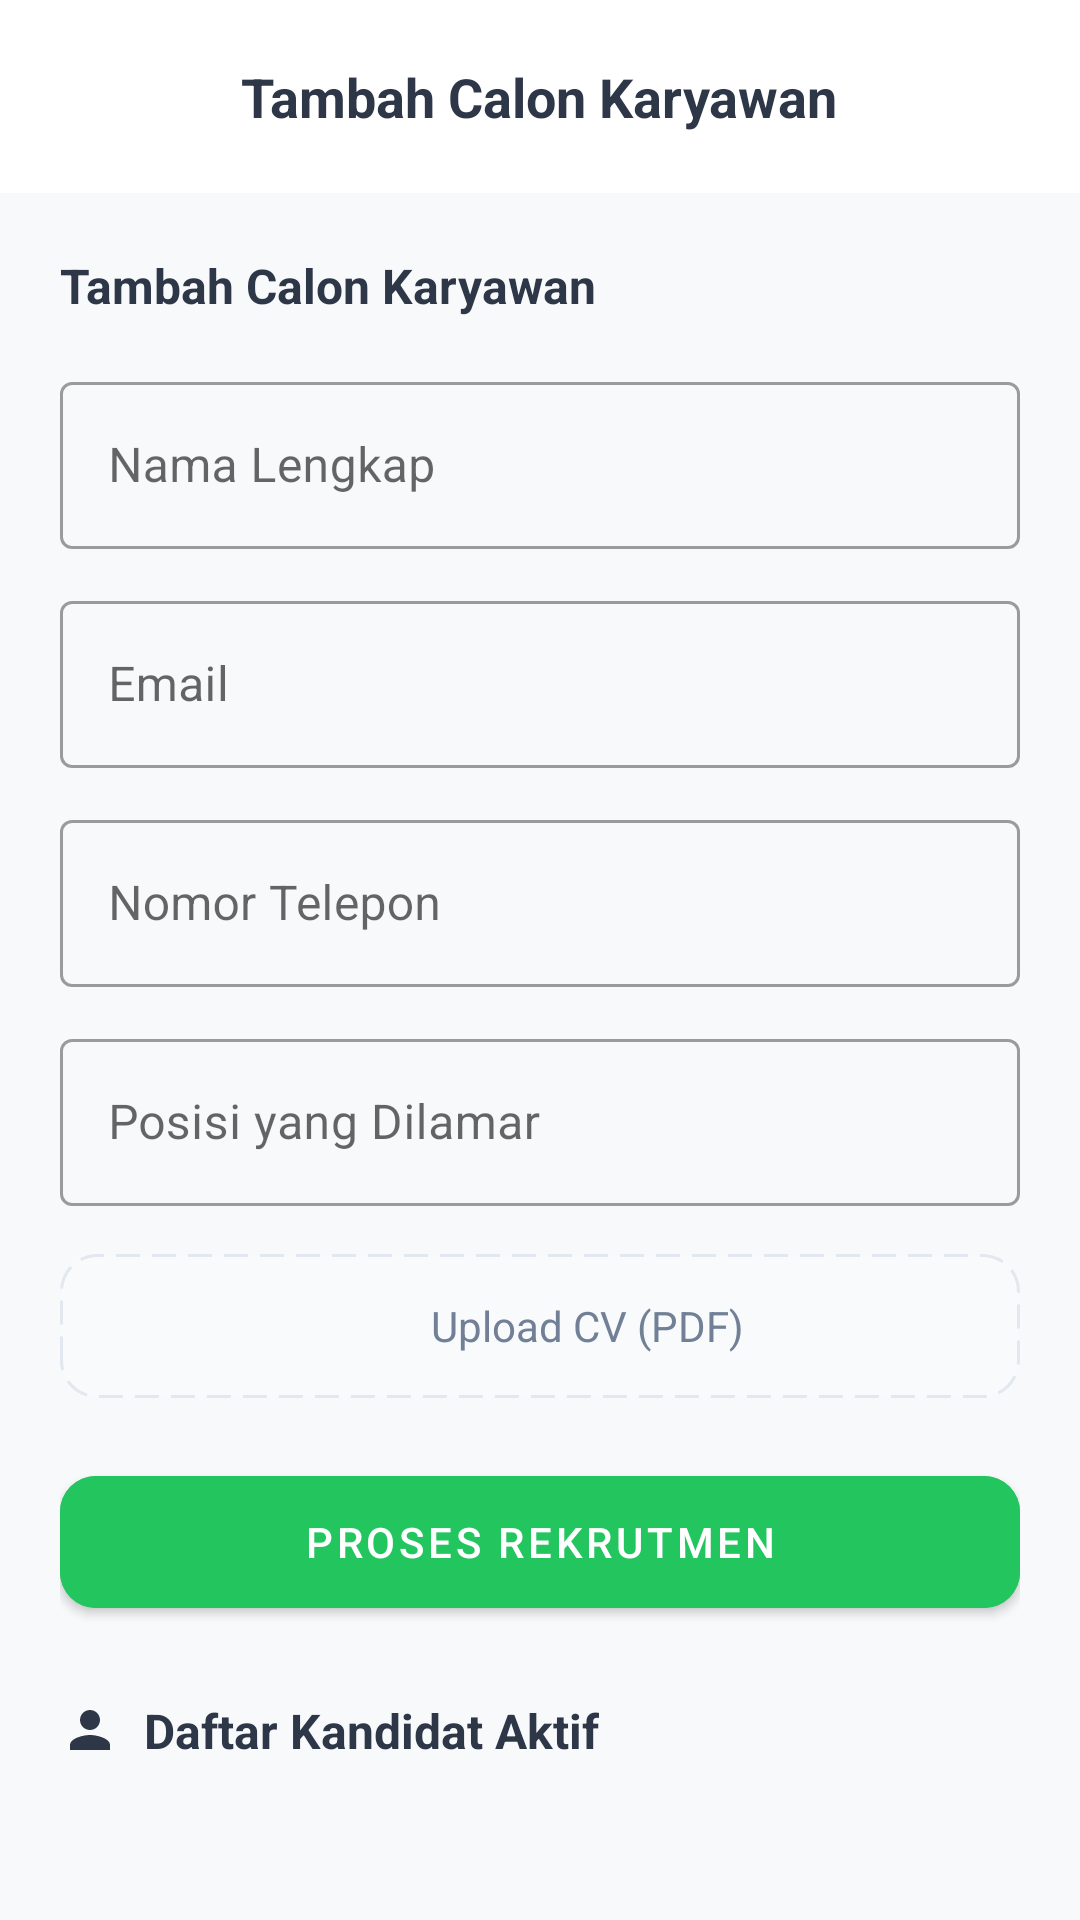

Icons on this 1080w x 1920h Android screen, each with its box as (x1, y1, x2, y2):
admin: (70, 1710, 110, 1750)
